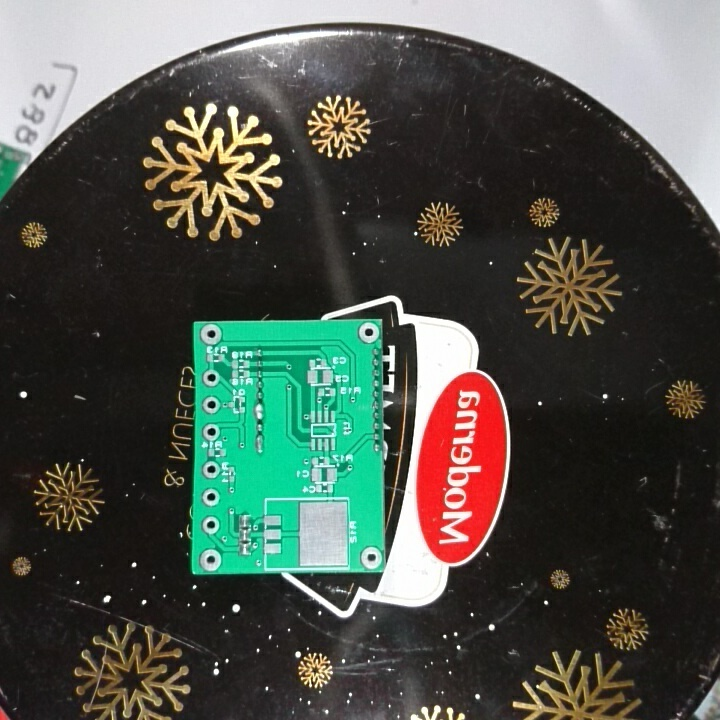F: (195, 546, 224, 572), (355, 320, 381, 346), (360, 545, 383, 571), (199, 323, 225, 346), (201, 394, 222, 419), (199, 486, 222, 508), (202, 368, 222, 392), (200, 461, 222, 482), (200, 515, 220, 536), (200, 423, 221, 441)
P: (252, 435, 268, 456), (252, 402, 266, 423)
